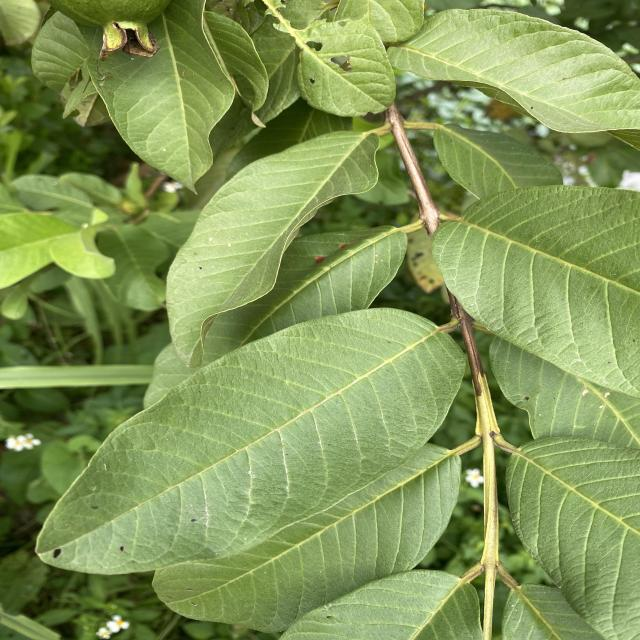Dot: (387, 9, 638, 132), (273, 10, 395, 116)
